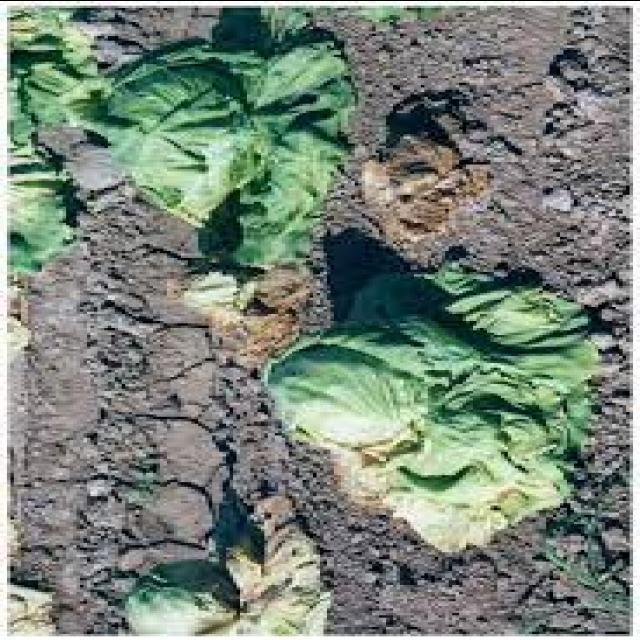Lettuce: (265, 255, 597, 553), (91, 17, 346, 270), (115, 488, 333, 640)
